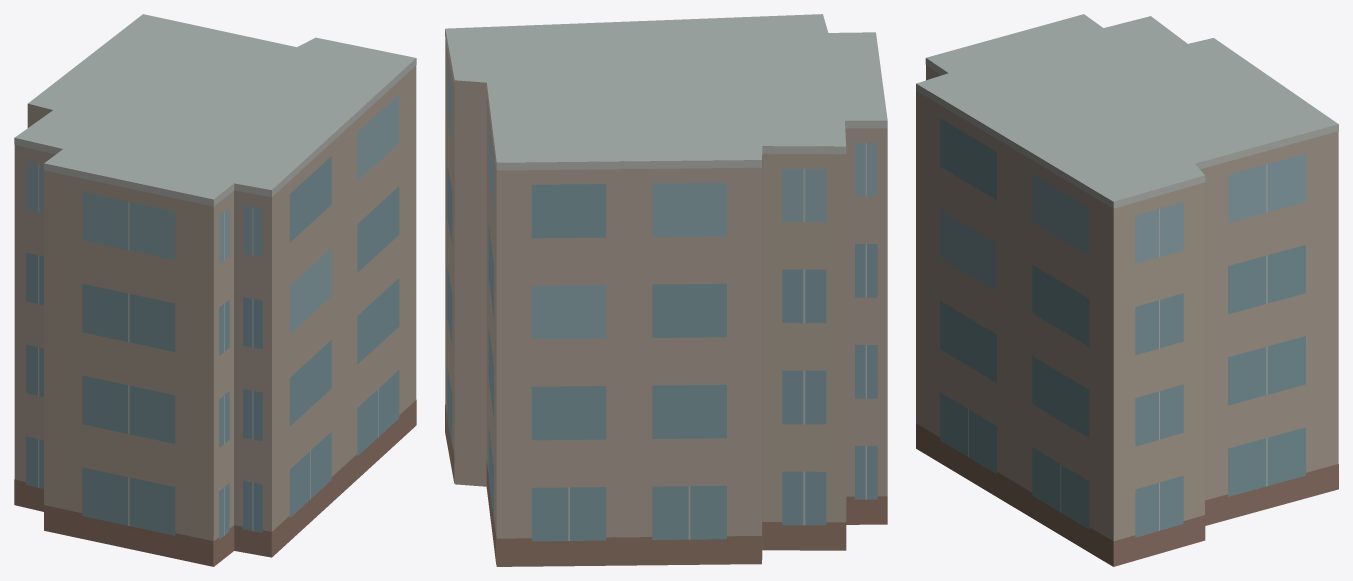
Rendered from survey-upis-32781279.glb.
3 views of the same model, side by side, from view 1: azimuth 30°, elevation 25°; view 2: azimuth 150°, elevation 25°; view 3: azimuth 270°, elevation 25° (orthographic). The views are drawn at different scales.
Parts seen in each view (by area): view 1: survey-upis-32781279.tmp; view 2: survey-upis-32781279.tmp; view 3: survey-upis-32781279.tmp.
Part boxes in pixels (bbox=[...]): survey-upis-32781279.tmp: bbox=[14, 14, 416, 566]; survey-upis-32781279.tmp: bbox=[445, 14, 887, 566]; survey-upis-32781279.tmp: bbox=[916, 14, 1338, 566].
Bounding box in the file's own units: 14.13 × 12.8 × 13.44.
